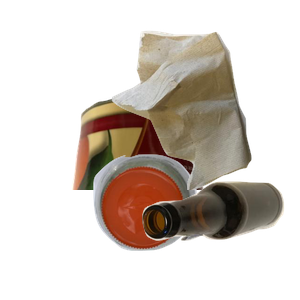glass: (140, 179, 300, 300)
metal: (69, 93, 265, 273)
plastic: (91, 152, 281, 300)
trash: (109, 28, 300, 208)
